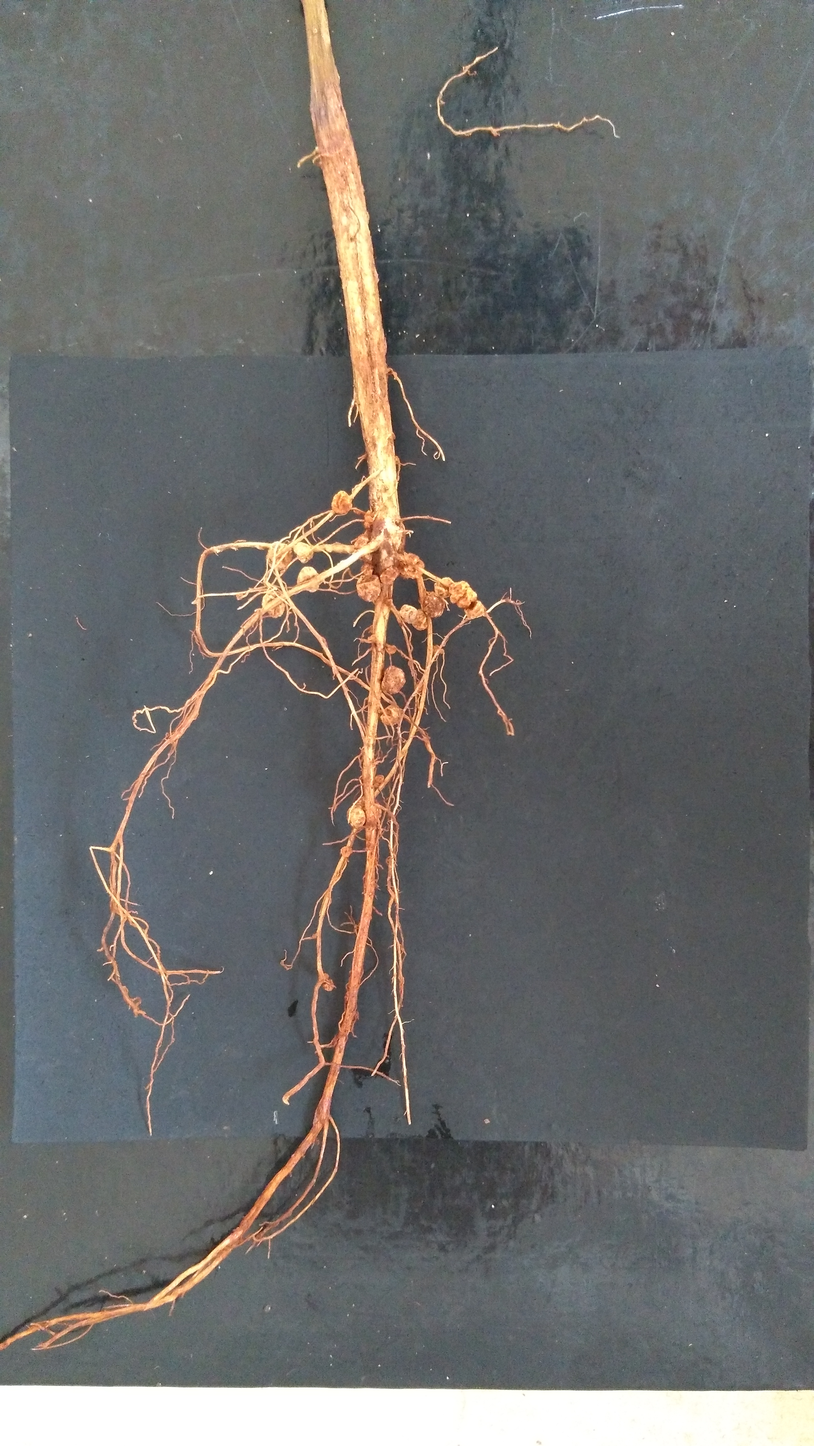nodule: (448, 581, 486, 619), (346, 796, 383, 828), (296, 566, 325, 593), (398, 550, 425, 579), (266, 541, 292, 571), (262, 588, 287, 618), (381, 664, 406, 694), (356, 574, 381, 603), (420, 591, 447, 617), (353, 533, 375, 561), (331, 490, 352, 515), (380, 704, 403, 725), (293, 542, 314, 564), (434, 577, 456, 598), (400, 603, 419, 625), (412, 608, 430, 631), (379, 565, 399, 585), (318, 973, 335, 992), (360, 562, 376, 577), (364, 510, 374, 528), (373, 774, 385, 789), (385, 642, 397, 655), (431, 643, 444, 655), (340, 846, 353, 857), (235, 591, 244, 601), (353, 507, 361, 515), (395, 455, 400, 464), (391, 432, 396, 440)
